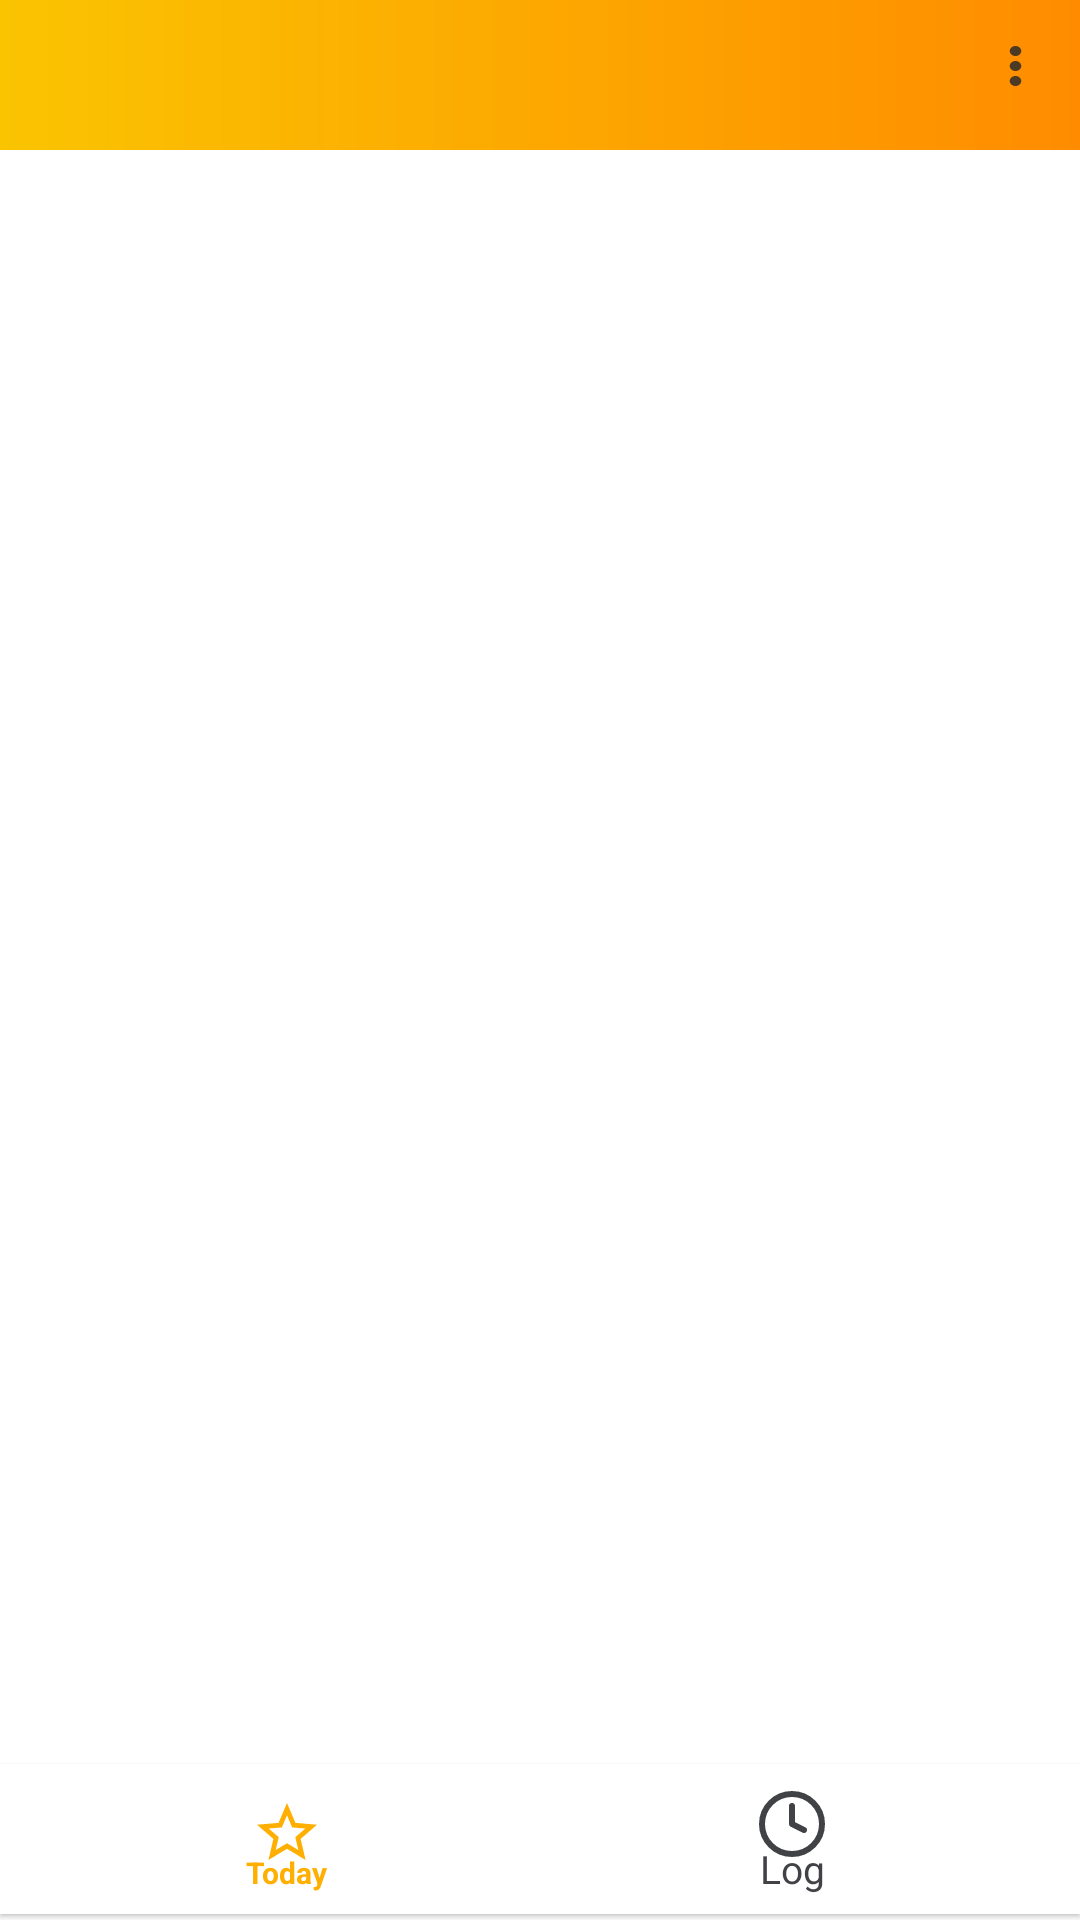

Screen size 1080x1920. Icon name, then its box in pixels as (left=x1, top=y1, right=x2, bottom=y2):
menu: (left=1009, top=46, right=1022, bottom=86)
